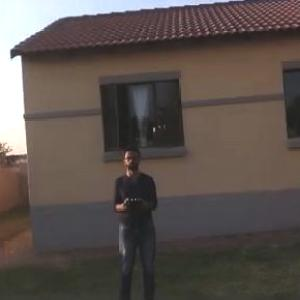follow: (110, 138, 166, 299)
